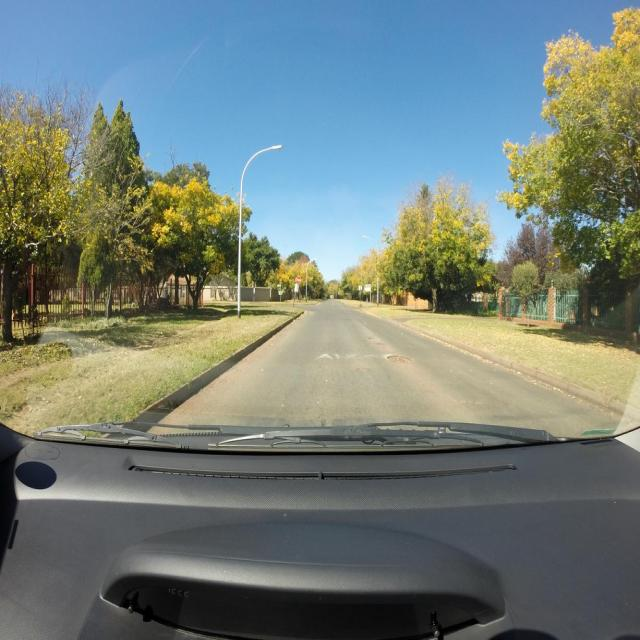Pothole: (387, 355, 414, 363), (358, 367, 370, 373), (374, 342, 383, 345), (368, 338, 374, 340)
